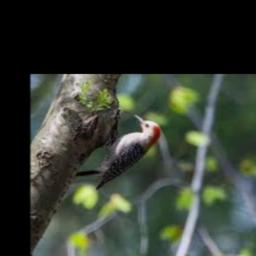Woodpecker: (74, 113, 160, 189)
